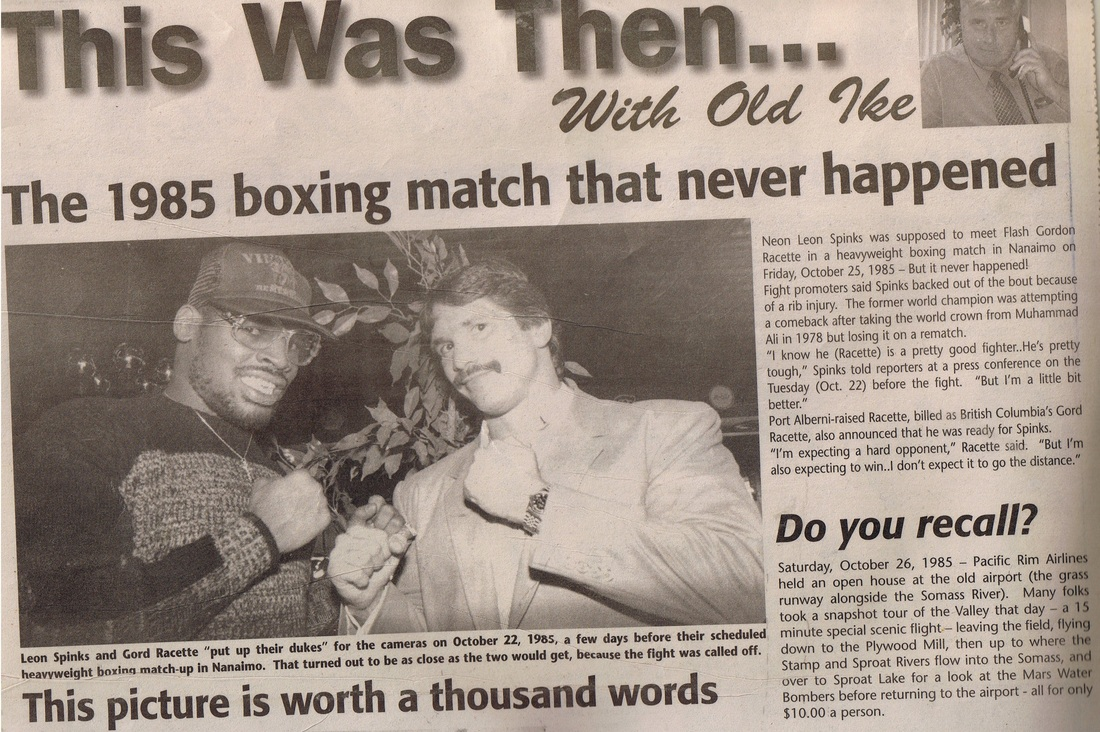Rec_Paper: (1, 4, 1087, 714)
